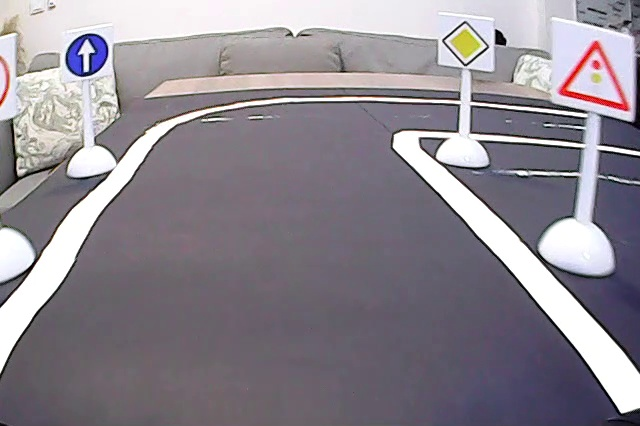red light: (554, 28, 630, 117)
